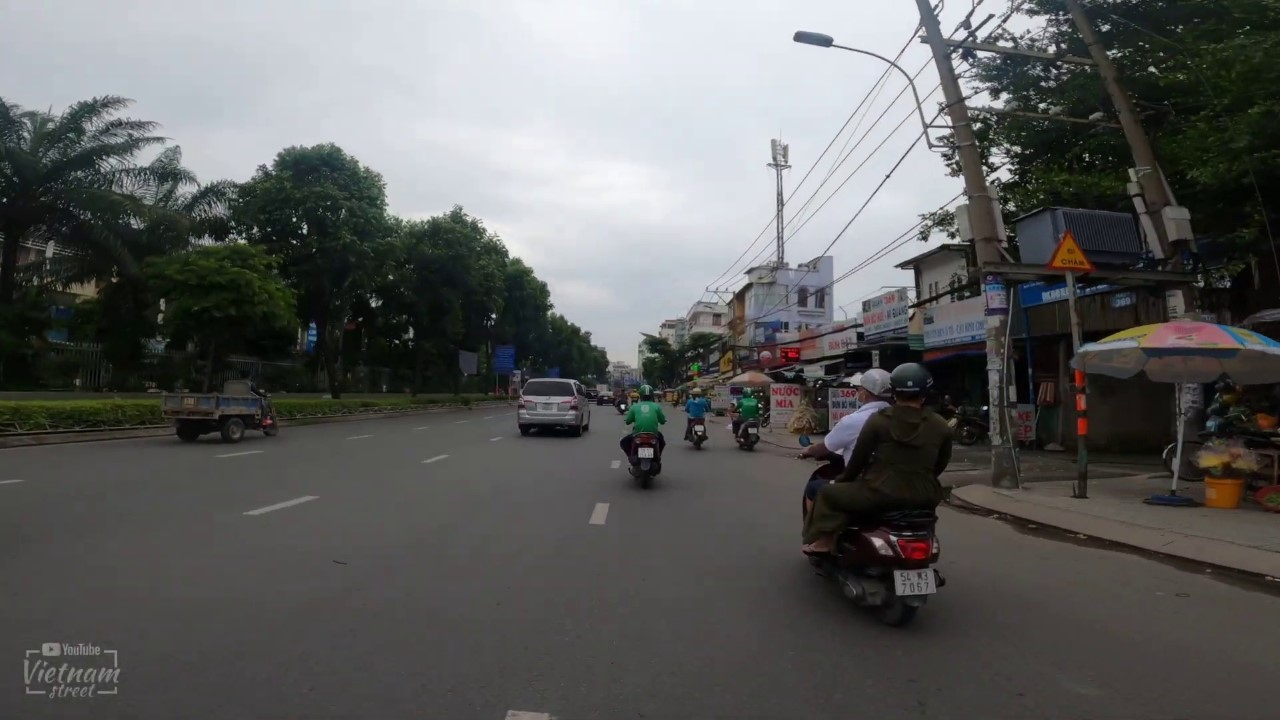di_cham: (1046, 229, 1096, 272)
